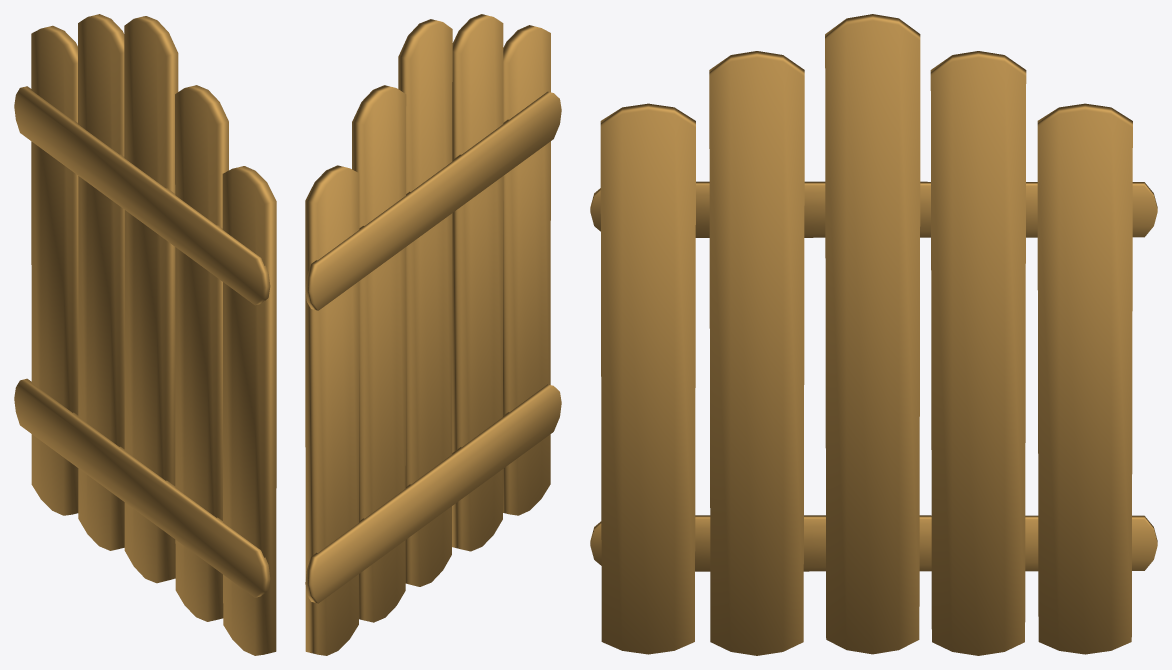
File: Gate.fbx
3 views of the same model, side by side, from view 1: azimuth 30°, elevation 25°; view 2: azimuth 150°, elevation 25°; view 3: azimuth 270°, elevation 25° (orthographic). The views are drawn at different scales.
Parts seen in each view (by area): view 1: Cube; view 2: Cube; view 3: Cube.
Boxes of the visible parts, <box> form: Cube: <box>14,14,276,655</box>; Cube: <box>305,14,561,655</box>; Cube: <box>590,14,1157,655</box>.
Bounding box in the file's own units: 10.28 × 297 × 240.
